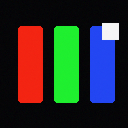1 square: (102, 23, 118, 39)
